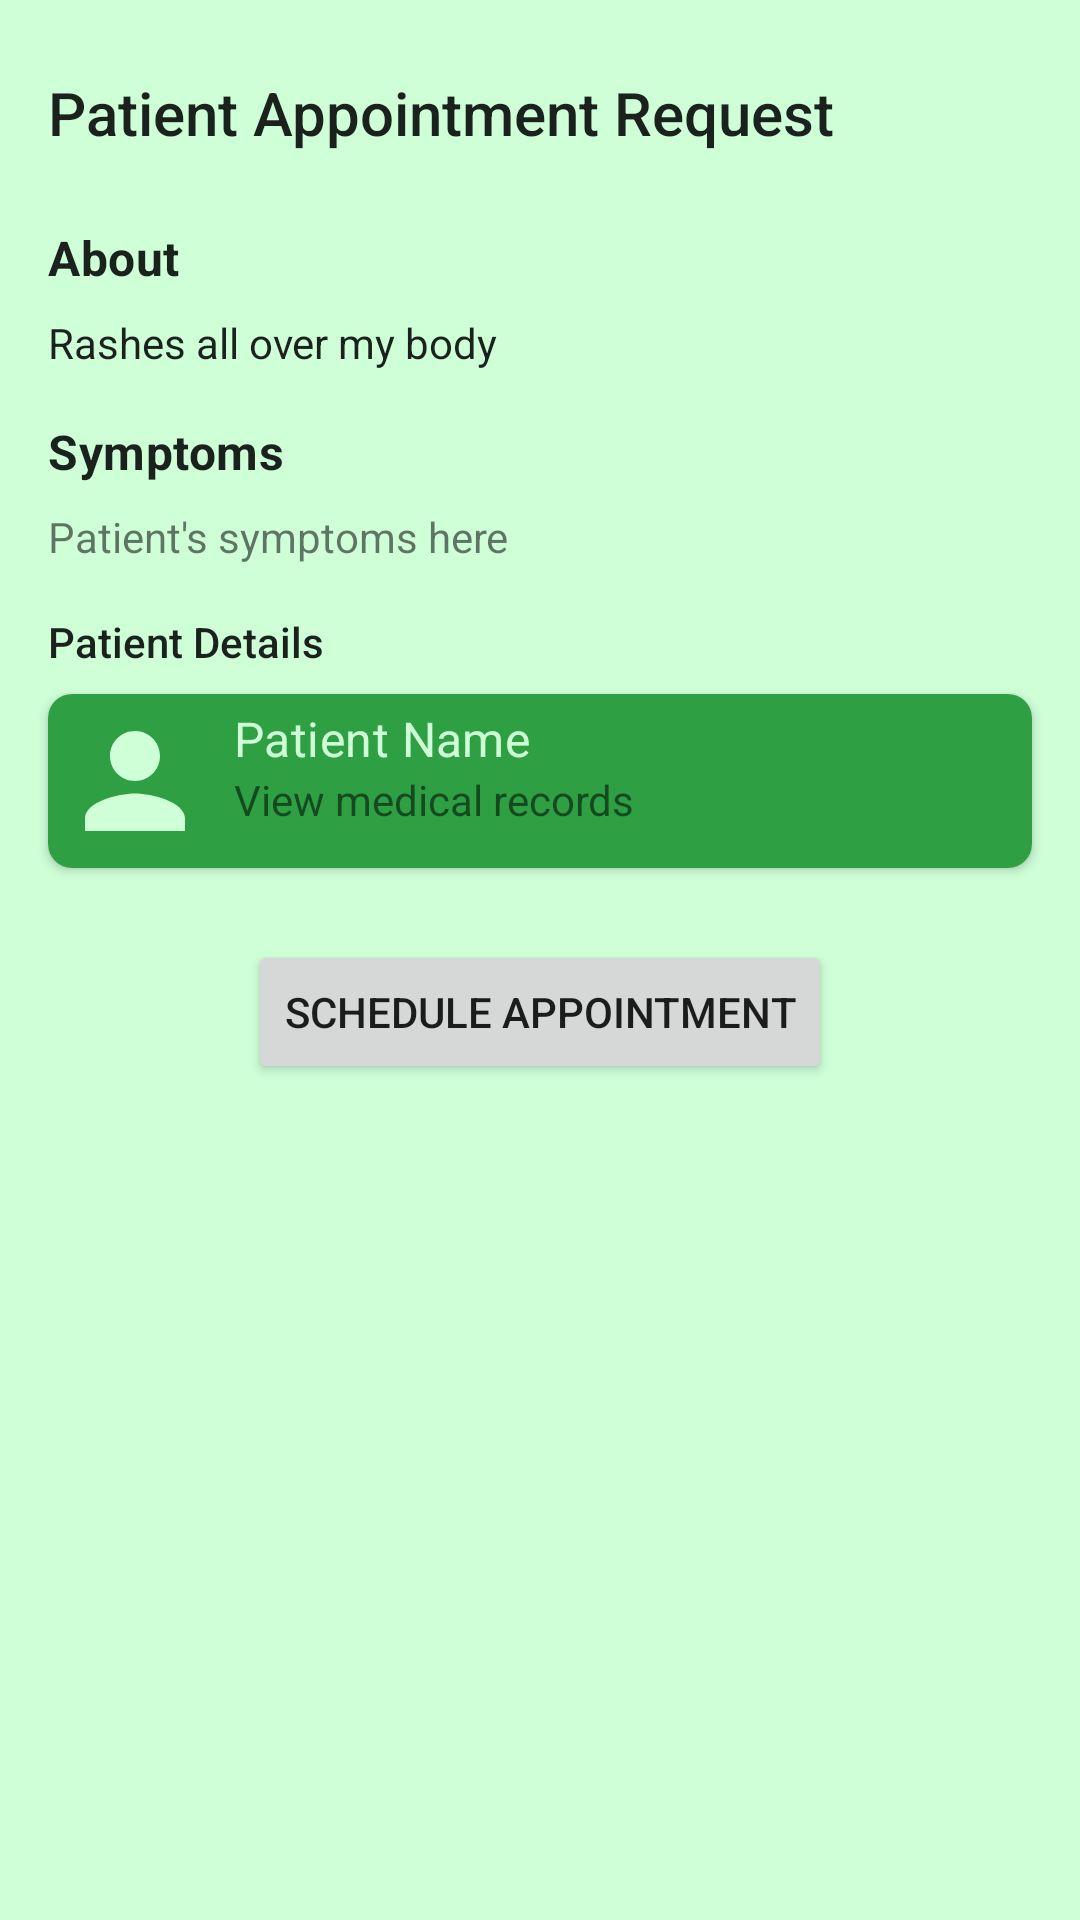

Named icons in this screenshot (1080*1920) and their bounding boxes, (left=x1, top=y1, right=x2, bottom=y2):
person: (left=85, top=731, right=185, bottom=831)
